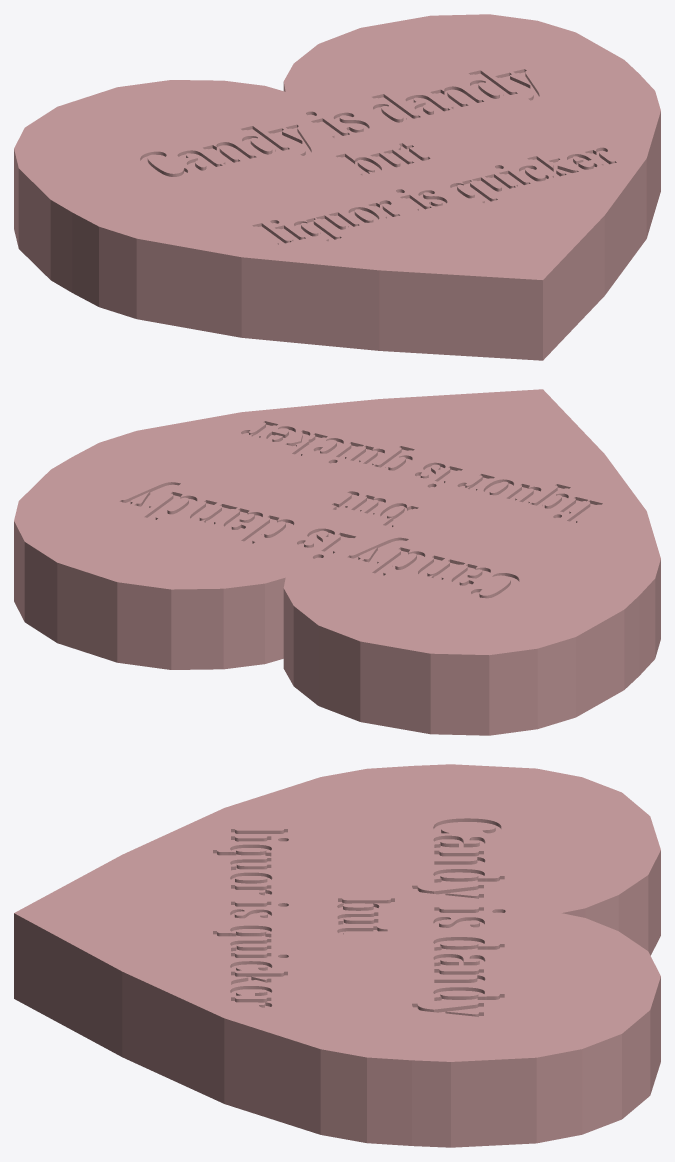
File: candy-heart.glb
The picture shows the model from 3 angles, top to bottom: view 1: azimuth 30°, elevation 25°; view 2: azimuth 150°, elevation 25°; view 3: azimuth 270°, elevation 25°; orthographic projection. The views are drawn at different scales.
Parts seen in each view (by area): view 1: Mesh_Mesh_head_geo.001_lambert2SG.001; view 2: Mesh_Mesh_head_geo.001_lambert2SG.001; view 3: Mesh_Mesh_head_geo.001_lambert2SG.001.
Part boxes in pixels (x1,y1,x2,y2): Mesh_Mesh_head_geo.001_lambert2SG.001: (14,14,660,360); Mesh_Mesh_head_geo.001_lambert2SG.001: (14,389,660,735); Mesh_Mesh_head_geo.001_lambert2SG.001: (14,764,660,1147).
Size of the model in its own units: 28.31 by 3.8 by 26.
